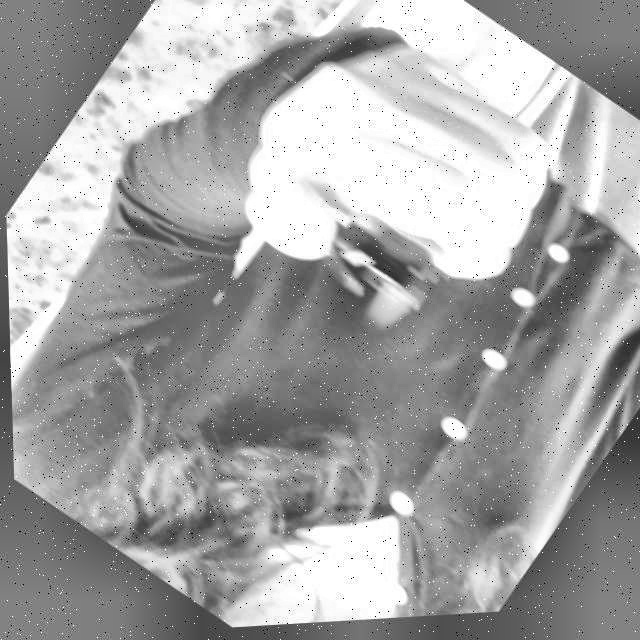Fire: (358, 285, 415, 343)
